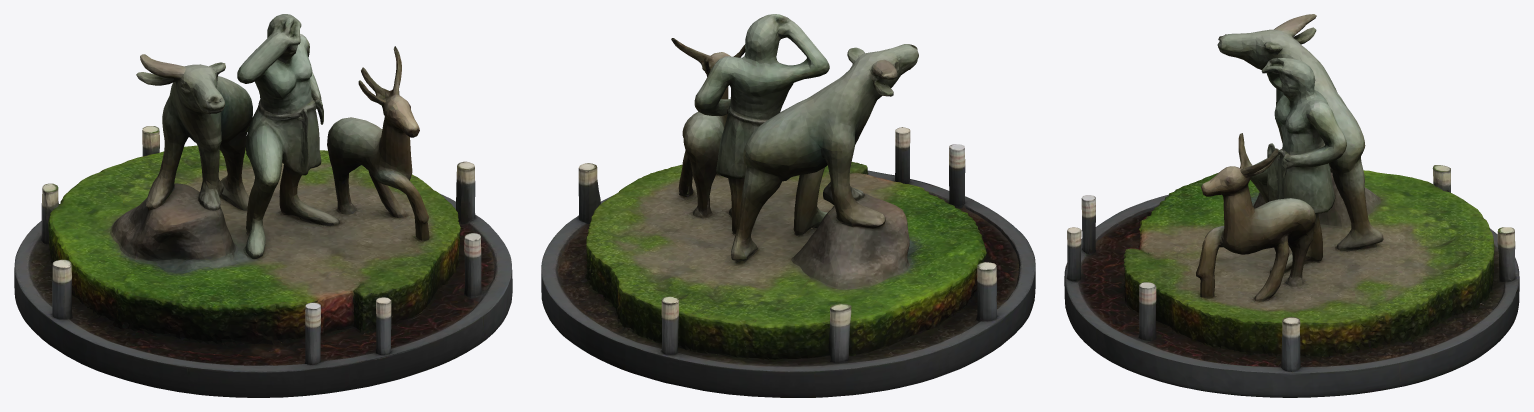
Rendered from bulusanstatue.glb.
The picture shows the model from 3 angles, left to right: view 1: azimuth 30°, elevation 25°; view 2: azimuth 150°, elevation 25°; view 3: azimuth 270°, elevation 25°; orthographic projection. The views are drawn at different scales.
Parts seen in each view (by area): view 1: world; view 2: world; view 3: world.
Boxes of the visible parts, x1,y1,x2,y2 form: world: (14,14,512,397); world: (541,14,1035,397); world: (1064,14,1519,397).
Bounding box in the file's own units: 0.9995 × 0.6125 × 0.995.
1 material, 1 textured.
